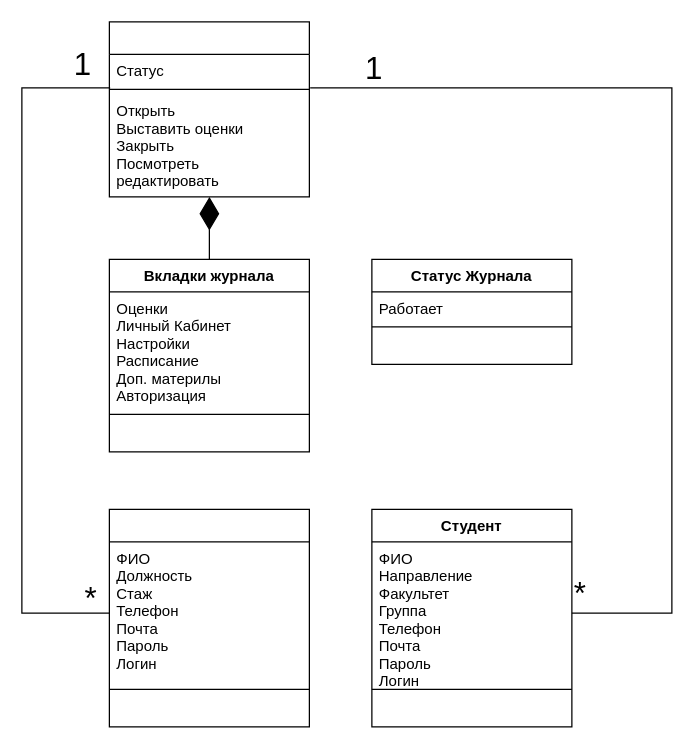
Image size: 695x753. Some labels were removed from this diagram. The shapes that lost their labels are listed below. From the top down, each one's box as (x1, y1, x2, y2) in pixels, then its label:
(108, 21, 309, 197): Журнал
(108, 508, 309, 727): Учитель
